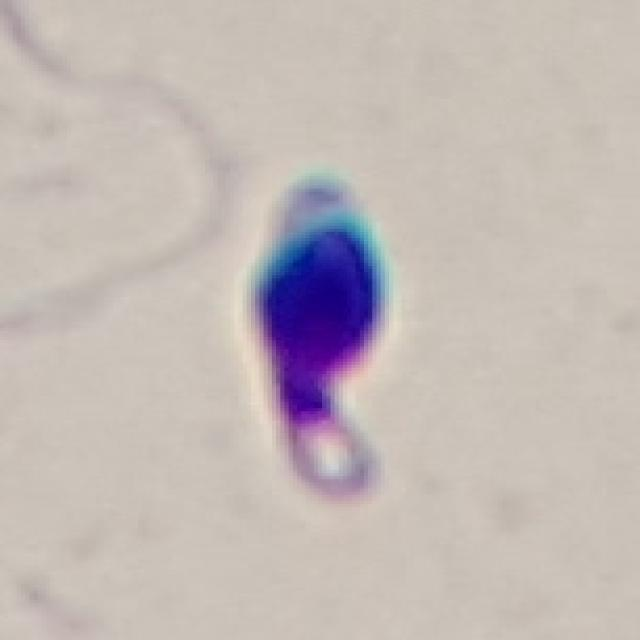abnormal sperm: (240, 155, 419, 513)
